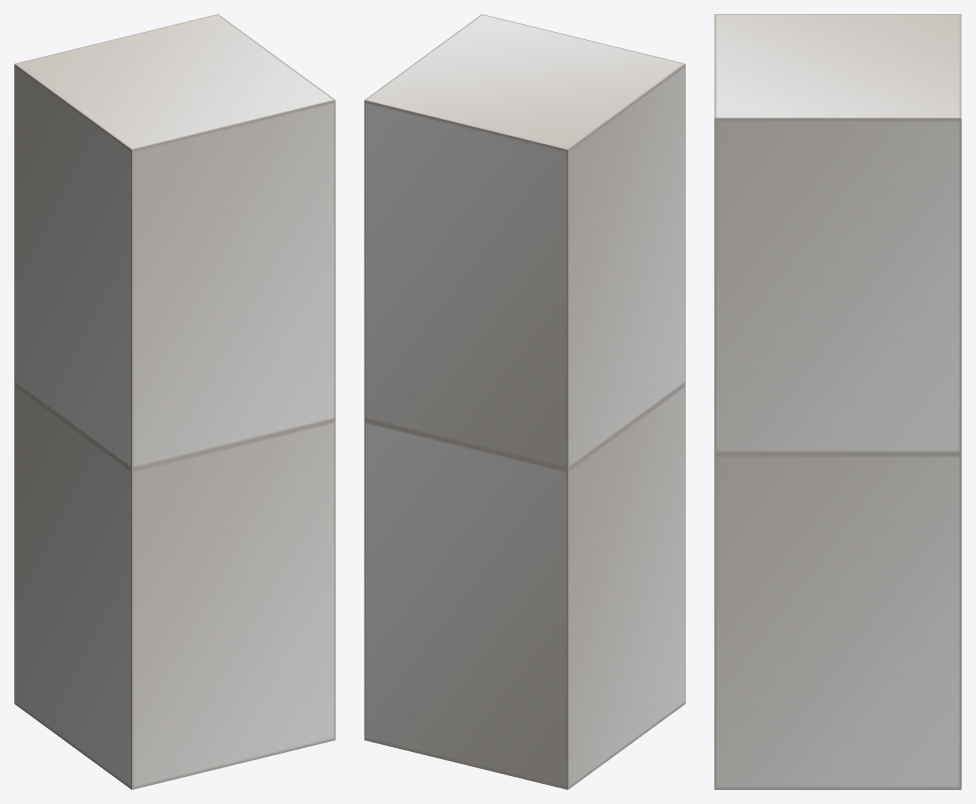
The model's file is sceen_placeholder_baddie.fbx.
3 renders of one model, left to right at view 1: azimuth 30°, elevation 25°; view 2: azimuth 150°, elevation 25°; view 3: azimuth 270°, elevation 25°, orthographic. The views are drawn at different scales.
Parts seen in each view (by area): view 1: mesh_baddie; view 2: mesh_baddie; view 3: mesh_baddie.
Part boxes in pixels (left/top/right/bottom): mesh_baddie: left=14, top=14, right=335, bottom=789; mesh_baddie: left=364, top=14, right=685, bottom=789; mesh_baddie: left=714, top=14, right=961, bottom=789.
Bounding box in the file's own units: 0.6 × 1.8 × 0.6.
Materials: 1 (1 with a texture image).
